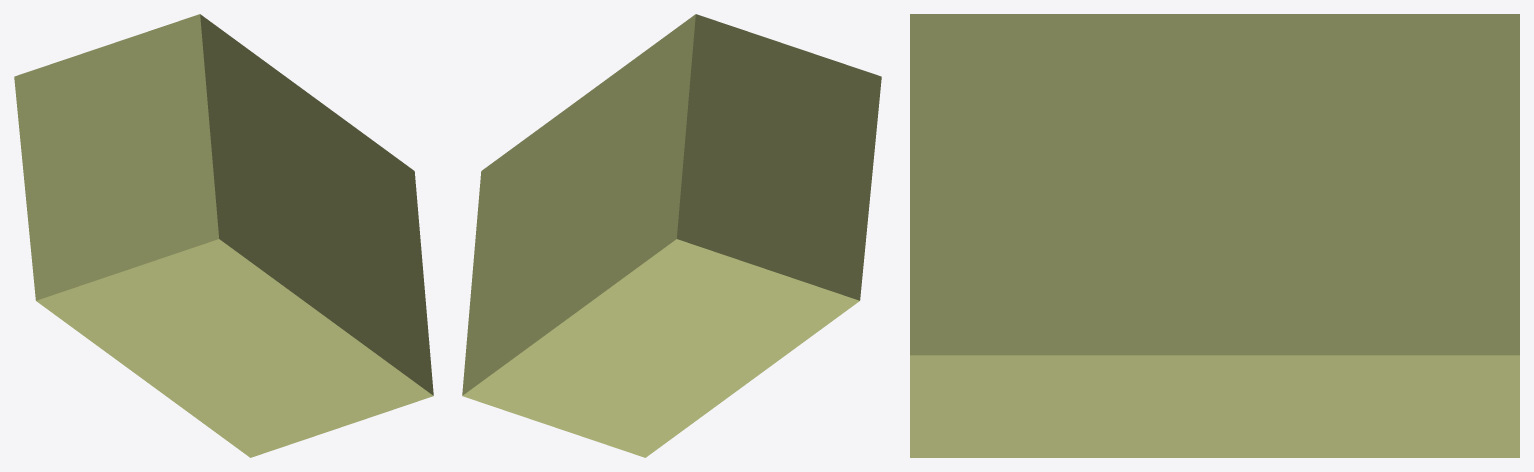
The picture shows the model from 3 angles, left to right: view 1: azimuth 30°, elevation 25°; view 2: azimuth 150°, elevation 25°; view 3: azimuth 270°, elevation 25°; orthographic projection. The views are drawn at different scales.
Visible parts, largest first — view 1: 0_2_3_3_3_1_0_0_1_2_2; view 2: 0_2_3_3_3_1_0_0_1_2_2; view 3: 0_2_3_3_3_1_0_0_1_2_2.
Part boxes in pixels (x1,y1,x2,y2): 0_2_3_3_3_1_0_0_1_2_2: (14,14,433,457); 0_2_3_3_3_1_0_0_1_2_2: (462,14,881,457); 0_2_3_3_3_1_0_0_1_2_2: (910,14,1519,457).
Size of the model in its own units: 4.96 by 5.71 by 9.
